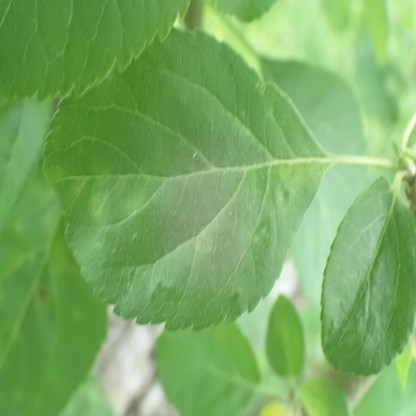scab: (280, 162, 321, 187), (126, 194, 145, 218), (194, 231, 212, 251), (90, 194, 107, 215), (71, 176, 87, 197)
